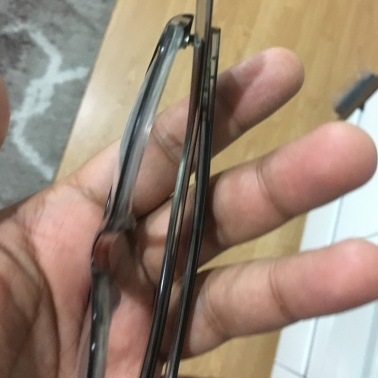glasses: (110, 3, 217, 376)
